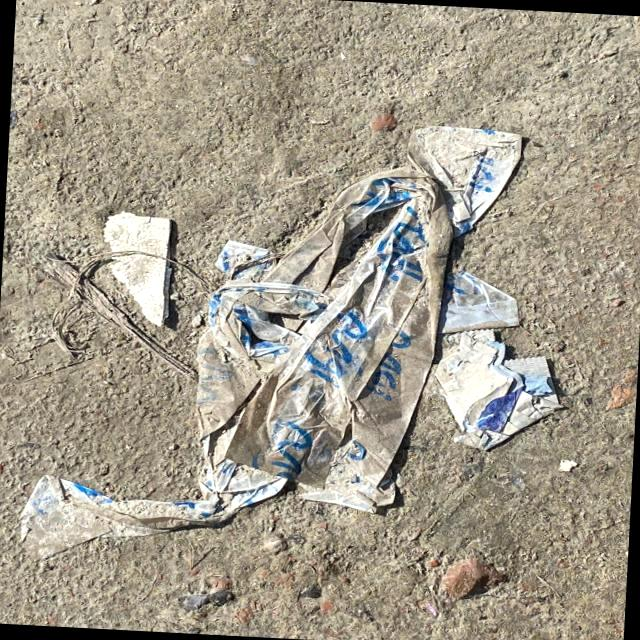polythene: (218, 184, 411, 488)
